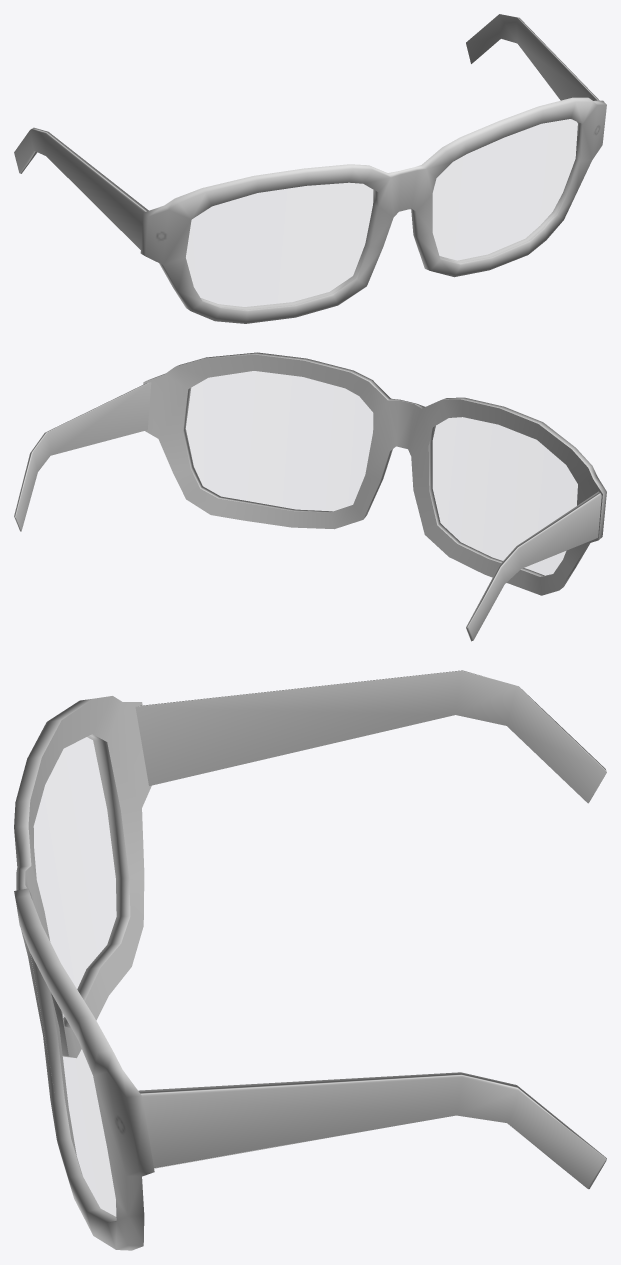
Rendered from p0_eyw0003_00_eyw00.gltf.
The picture shows the model from 3 angles, top to bottom: view 1: azimuth 30°, elevation 25°; view 2: azimuth 150°, elevation 25°; view 3: azimuth 270°, elevation 25°; orthographic projection. The views are drawn at different scales.
Visible parts, largest first — view 1: eyw00_frame_mesh_shape:eyewear, eyw00_temple_mesh_shape:eyewear; view 2: eyw00_frame_mesh_shape:eyewear, eyw00_temple_mesh_shape:eyewear; view 3: eyw00_temple_mesh_shape:eyewear, eyw00_frame_mesh_shape:eyewear.
Boxes of the visible parts, x1,y1,x2,y2 form: eyw00_frame_mesh_shape:eyewear: (140,97,606,323); eyw00_temple_mesh_shape:eyewear: (14,14,599,249); eyw00_frame_mesh_shape:eyewear: (143,352,606,595); eyw00_temple_mesh_shape:eyewear: (14,382,601,641); eyw00_temple_mesh_shape:eyewear: (135,670,606,1189); eyw00_frame_mesh_shape:eyewear: (14,696,154,1250).
Size of what is drawn, in the model's own units: 0.2148 by 0.0677 by 0.1321.
1 material, 1 textured.
